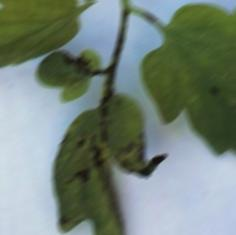Tomato leaf bacterial spot: (138, 0, 236, 178), (56, 86, 167, 235)
